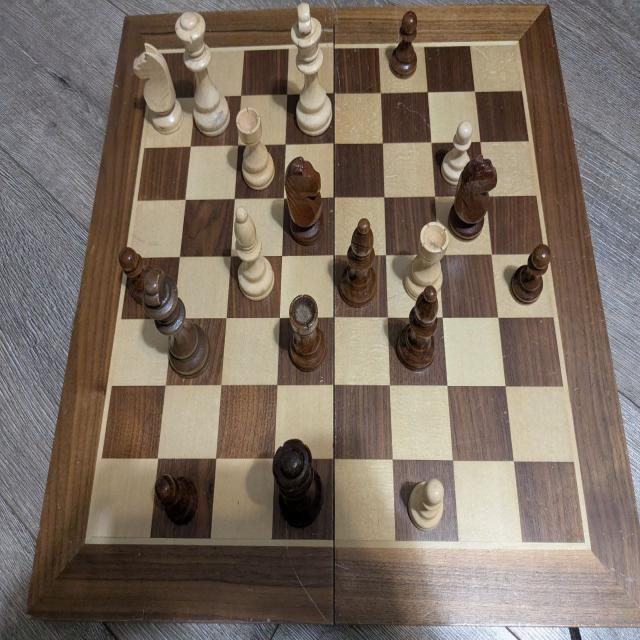black_bishop: (395, 286, 440, 371), (339, 218, 376, 306)
black_king: (141, 267, 212, 380)
black_knight: (448, 154, 498, 240), (284, 156, 324, 246)
black_pawn: (153, 473, 200, 527), (511, 243, 552, 304), (118, 246, 157, 304), (390, 9, 419, 78)
black_queen: (273, 438, 324, 530)
black_rook: (288, 294, 328, 374)
white_bishop: (233, 206, 276, 303)
white_king: (292, 0, 332, 135)
white_knight: (132, 42, 184, 135)
white_pawn: (442, 119, 474, 185), (408, 476, 445, 531)
white_queen: (175, 10, 229, 134)
white_rook: (405, 220, 448, 300), (236, 106, 276, 192)
